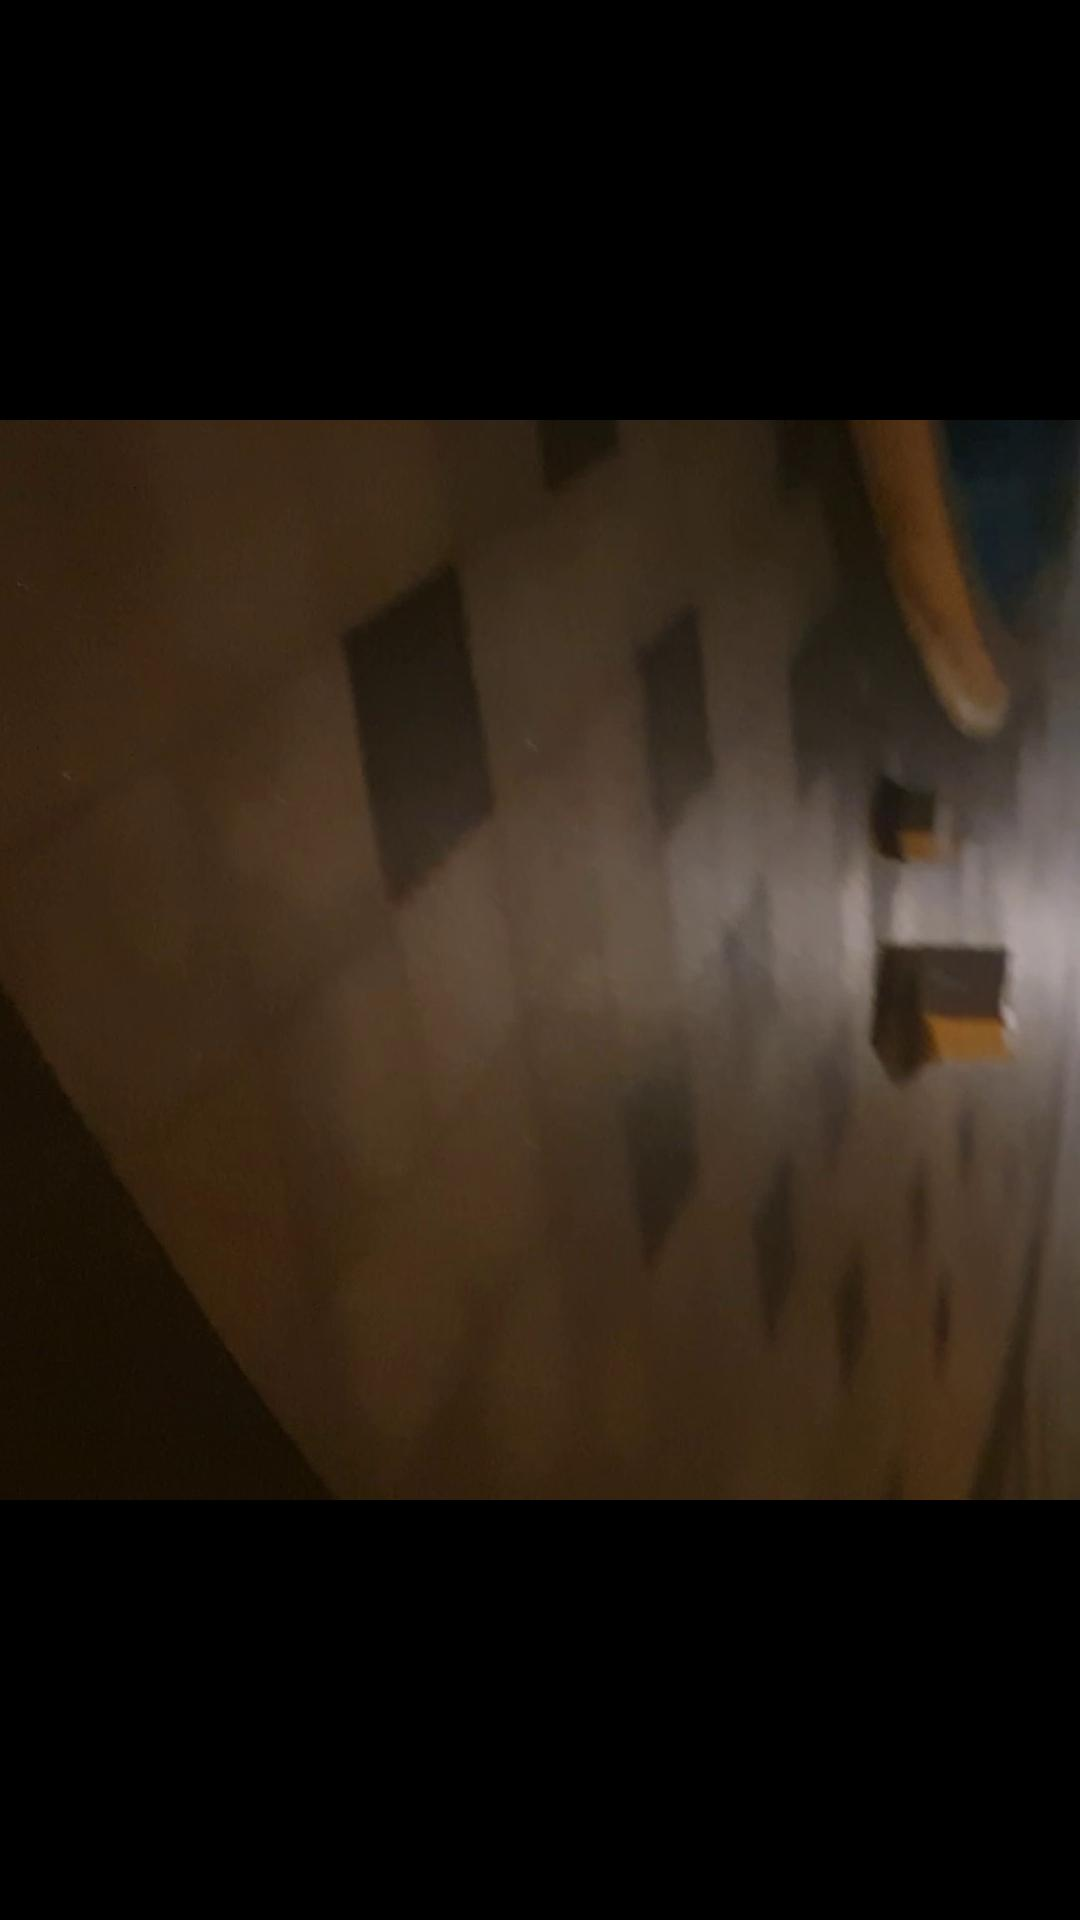Box: (915, 942, 1017, 1060), (885, 789, 963, 865)
